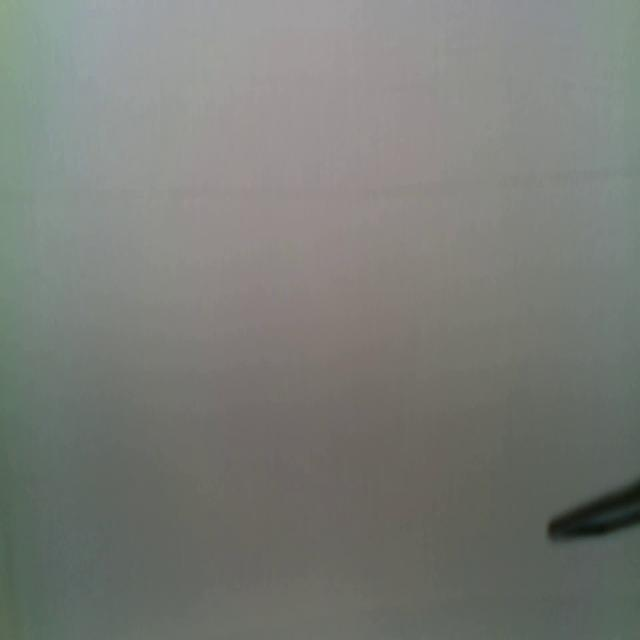color bleeding: (0, 154, 640, 211)
